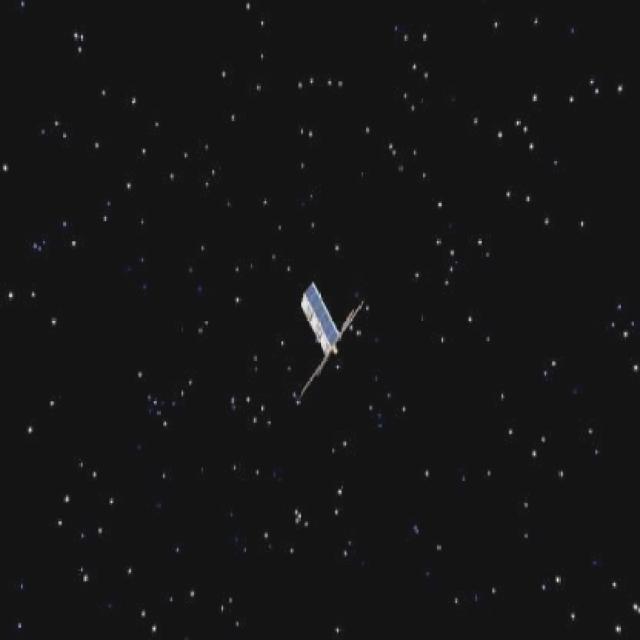satellite: (271, 275, 387, 404)
